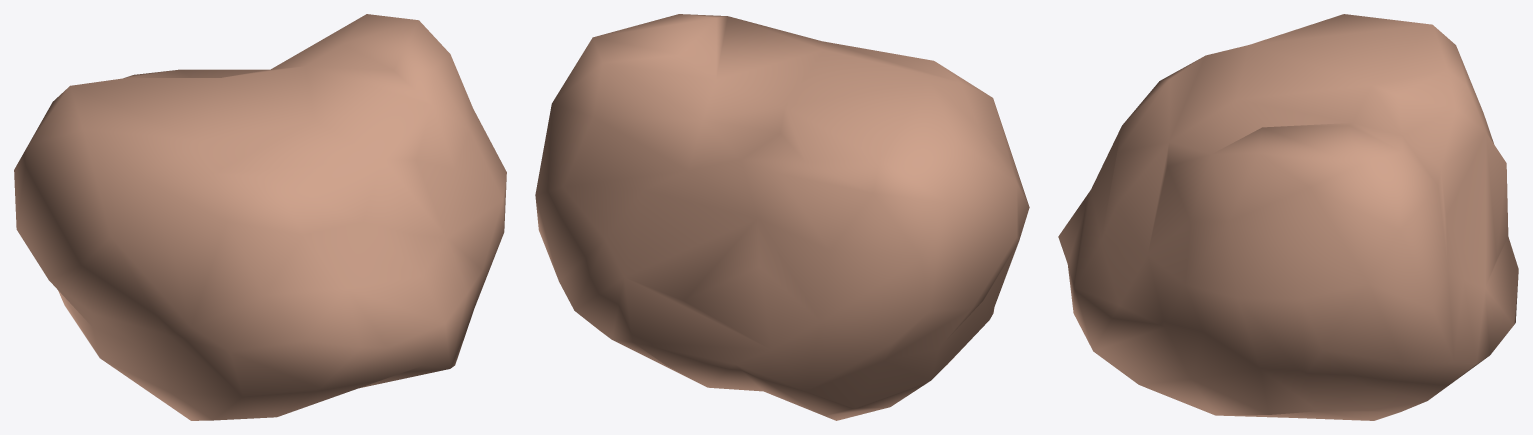
The model's file is tsd_s0327_older_adult_male.reproductive.LOD3.glb.
3 views of the same model, side by side, from view 1: azimuth 30°, elevation 25°; view 2: azimuth 150°, elevation 25°; view 3: azimuth 270°, elevation 25° (orthographic). The views are drawn at different scales.
Visible parts, largest first — view 1: TSD_S0327.OLDER_ADULT.MALE.REPRODUCTIVE.PROSTATE; view 2: TSD_S0327.OLDER_ADULT.MALE.REPRODUCTIVE.PROSTATE; view 3: TSD_S0327.OLDER_ADULT.MALE.REPRODUCTIVE.PROSTATE.
Boxes of the visible parts, <box> form: TSD_S0327.OLDER_ADULT.MALE.REPRODUCTIVE.PROSTATE: <box>14,14,506,420</box>; TSD_S0327.OLDER_ADULT.MALE.REPRODUCTIVE.PROSTATE: <box>535,14,1029,420</box>; TSD_S0327.OLDER_ADULT.MALE.REPRODUCTIVE.PROSTATE: <box>1058,14,1518,420</box>.
Size of the model in its own units: 0.0435 by 0.0288 by 0.0404.
